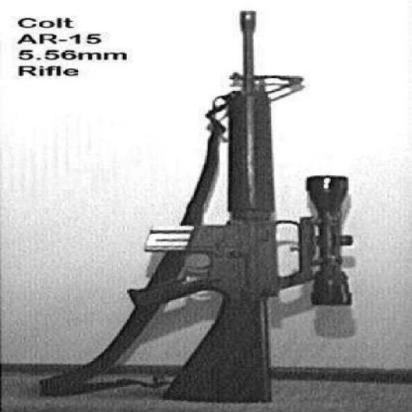Gun: (159, 5, 355, 406)
